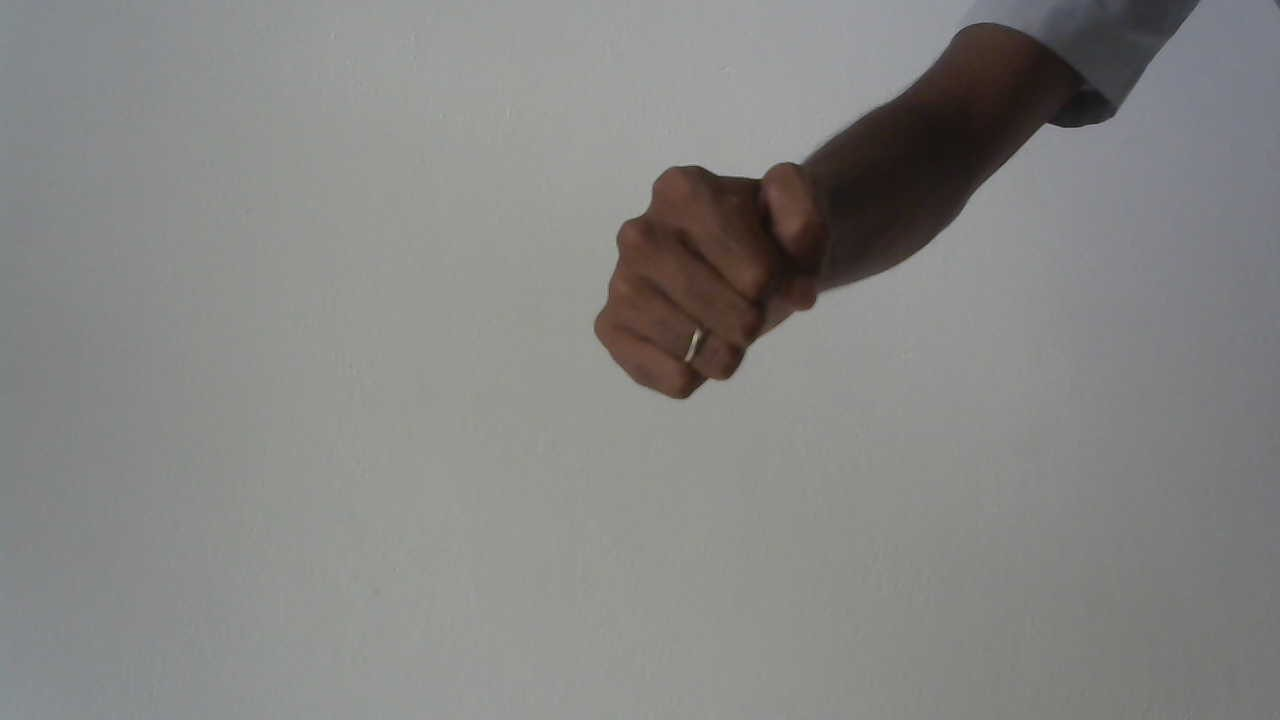yes: (582, 144, 839, 409)
